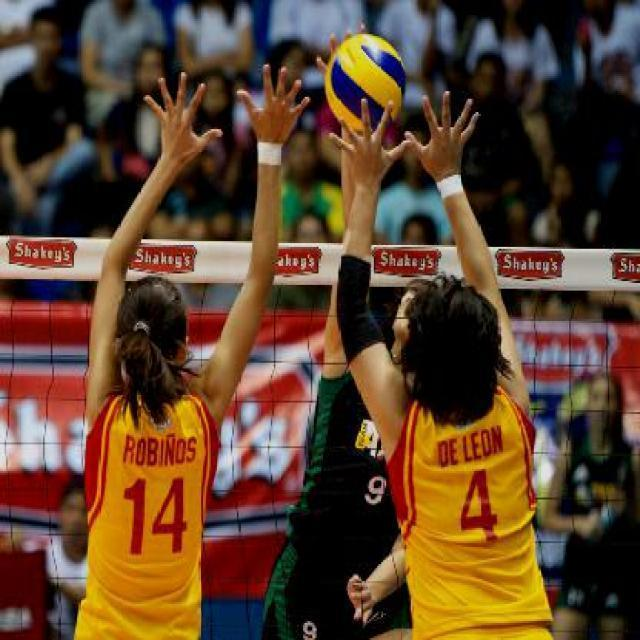volleyball: (324, 34, 406, 134)
